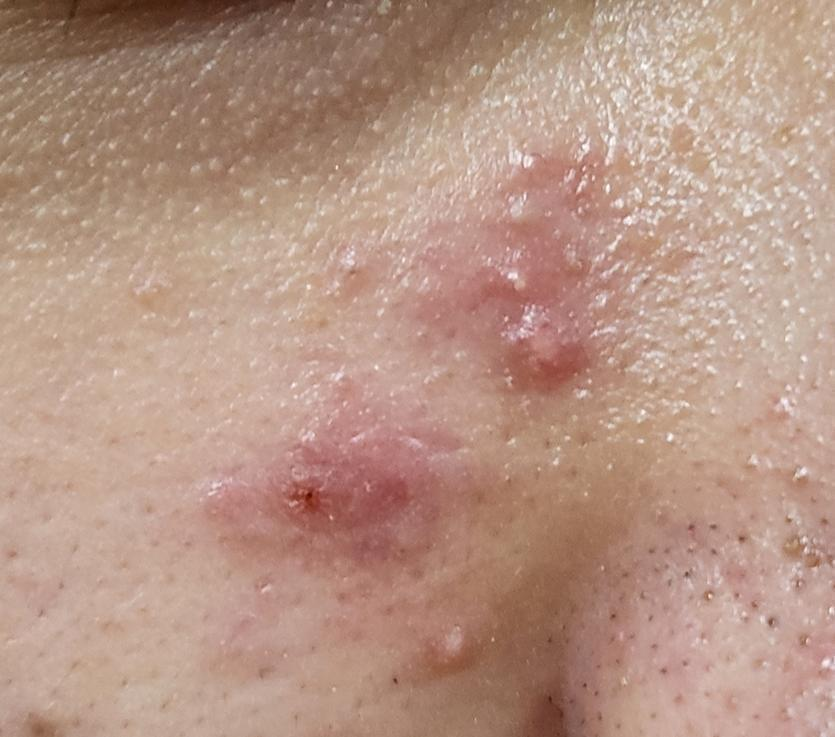blackhead: (631, 643, 749, 735), (551, 603, 658, 704), (686, 579, 777, 668), (758, 605, 835, 706), (753, 503, 835, 597), (648, 512, 742, 591), (583, 551, 670, 623)
papular: (228, 422, 443, 561), (421, 617, 492, 694), (325, 254, 374, 319)
purulent: (488, 249, 540, 315)
sebo-crystan-conglo: (491, 302, 599, 405)
whitehead: (490, 176, 550, 235), (551, 223, 603, 289)
